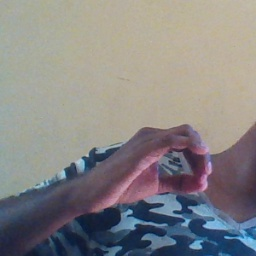O: (98, 114, 224, 206)
